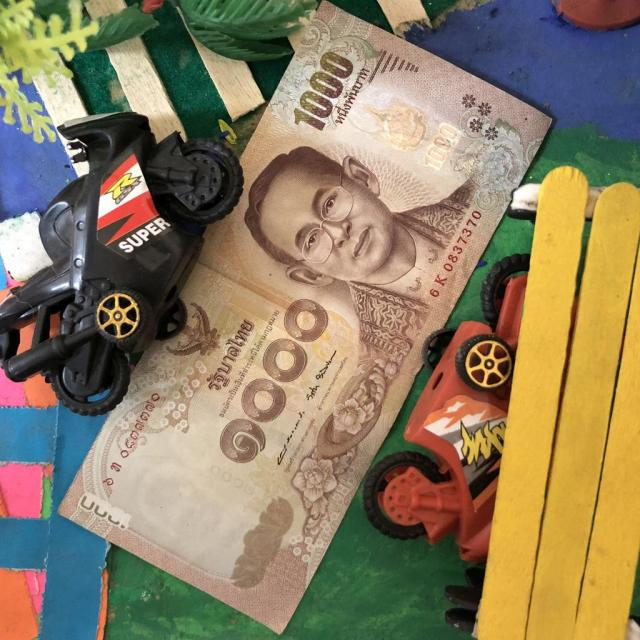THAI1000: (58, 2, 555, 636)
